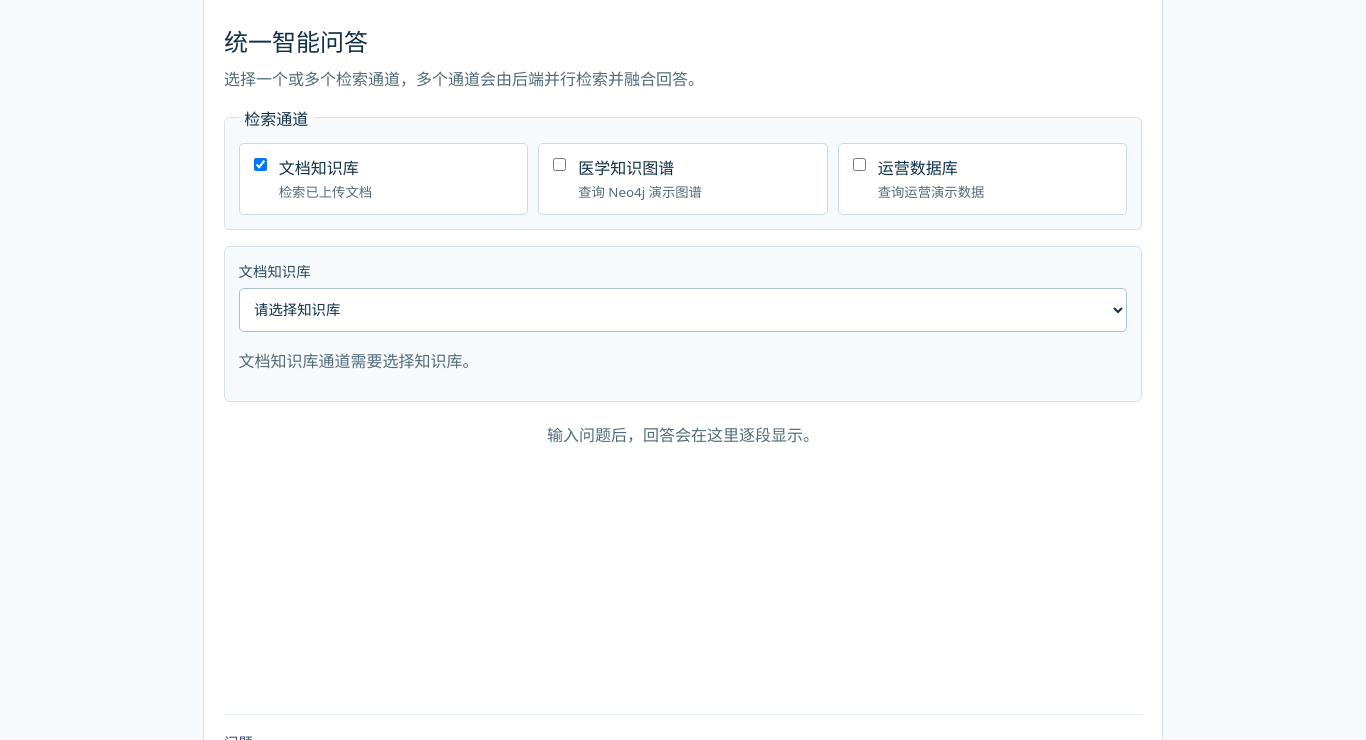
Test case: 纯图谱或运营数据库通道隐藏文档检索高级参数
This screenshot has width=1366, height=740.
Click the checkbox labelled "医学知识图谱". click: (560, 164)
box: top-left (554, 158), bottom-right (566, 171)
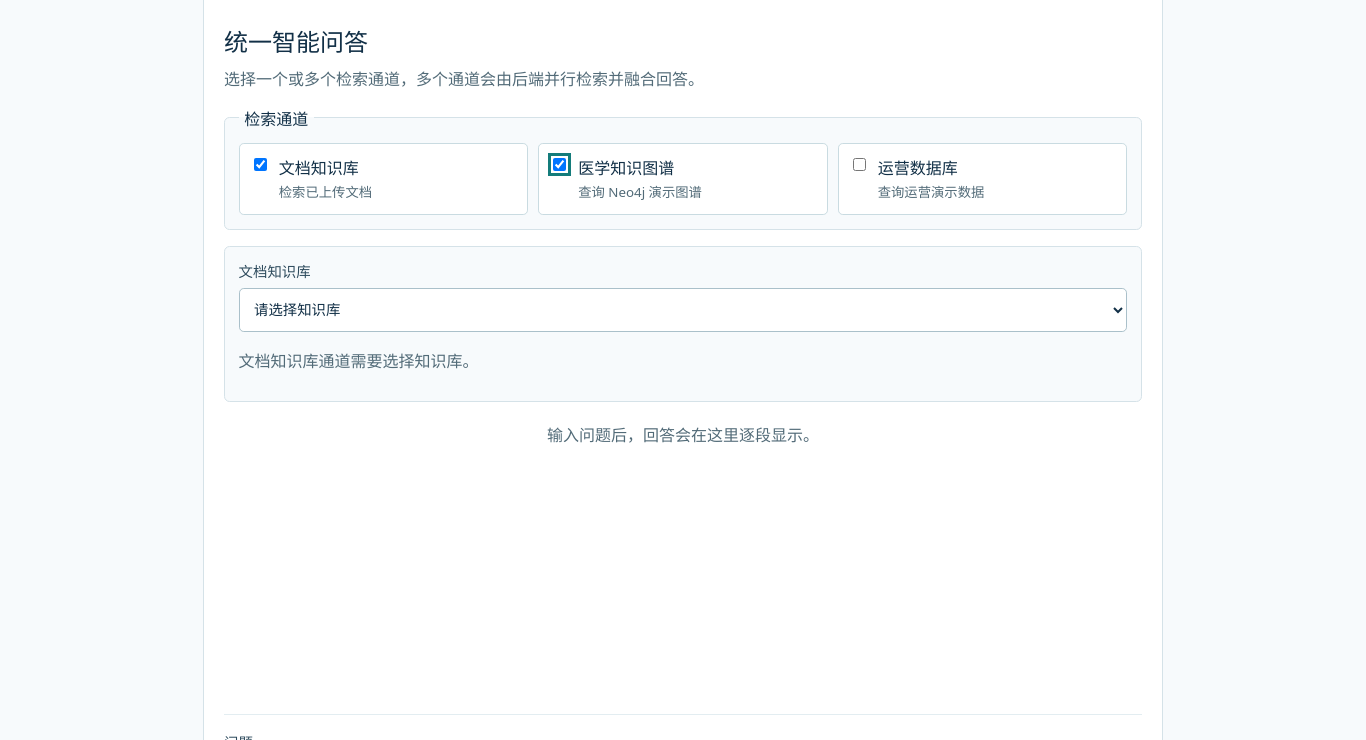
Click the checkbox labelled "文档知识库". click: (260, 164)
box: top-left (254, 158), bottom-right (267, 171)
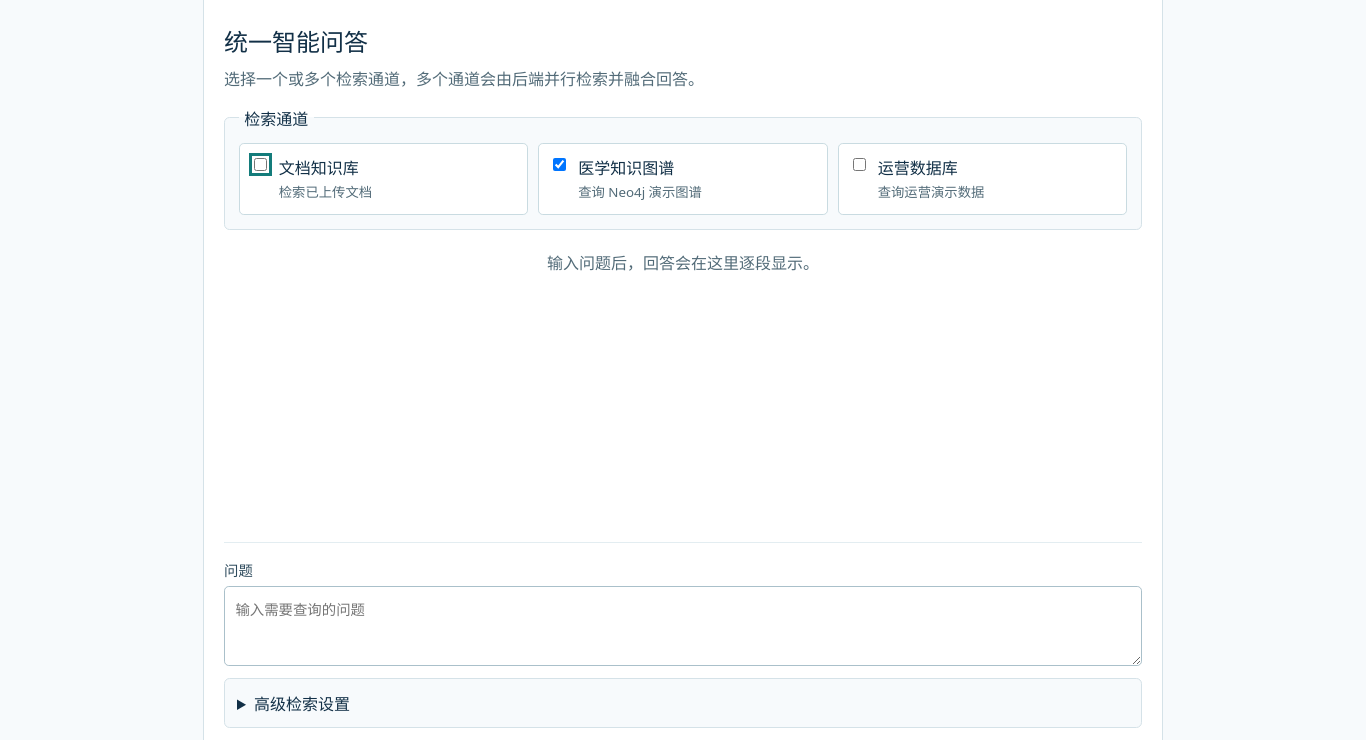
Click the heading "高级检索设置". click: (302, 704)
box: top-left (254, 693), bottom-right (350, 715)
(page scrolled)
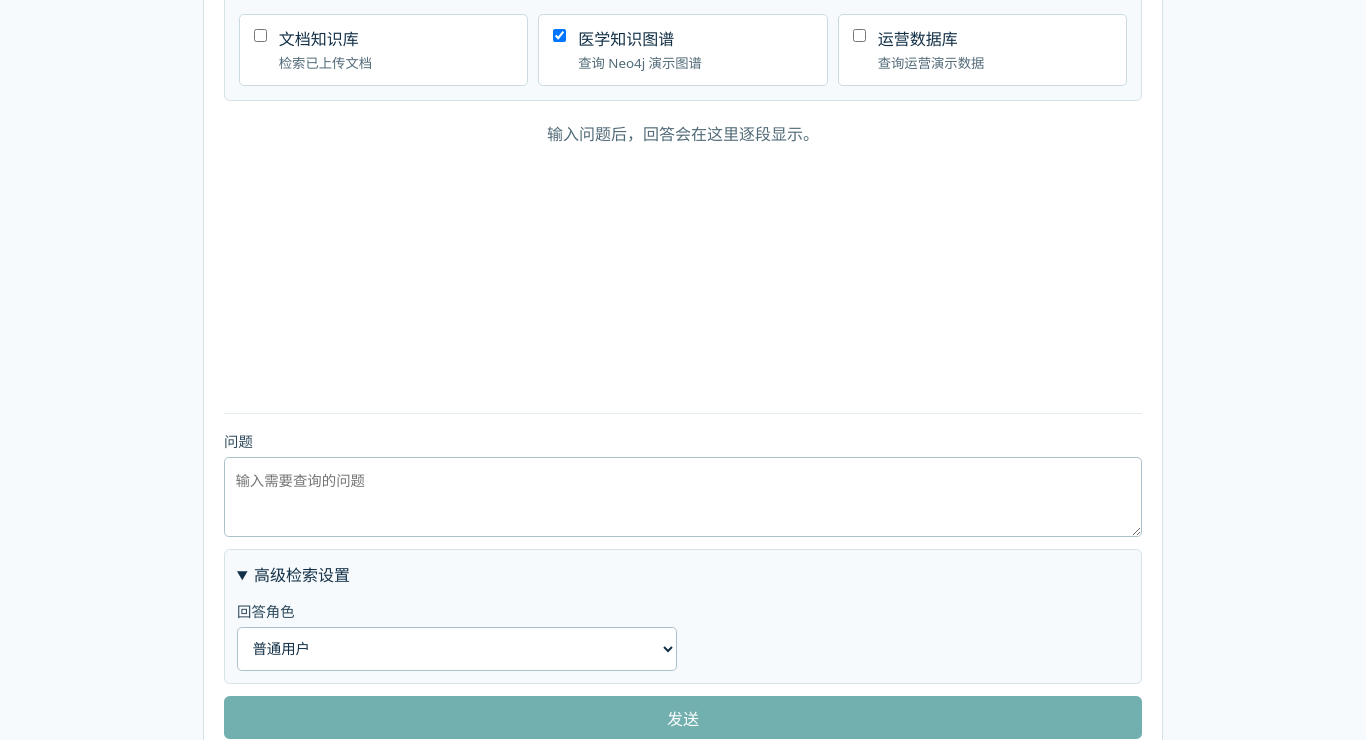
Check: the dropdown labelled "回答角色" is shown, box top-left (237, 627), bottom-right (677, 671)
